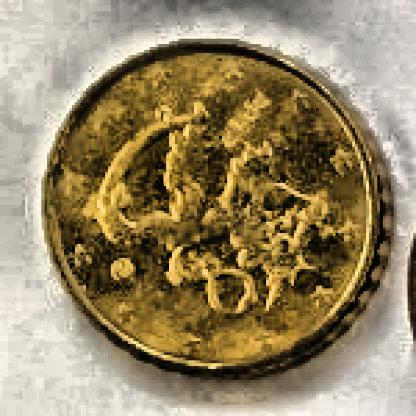coin: (48, 39, 386, 376)
